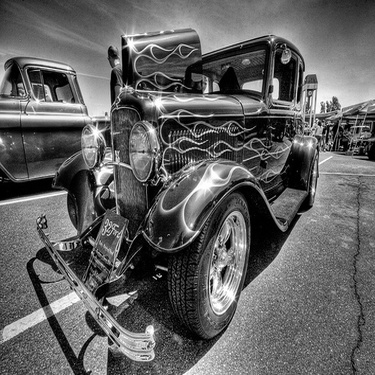car: (39, 32, 354, 331), (1, 47, 109, 178)
